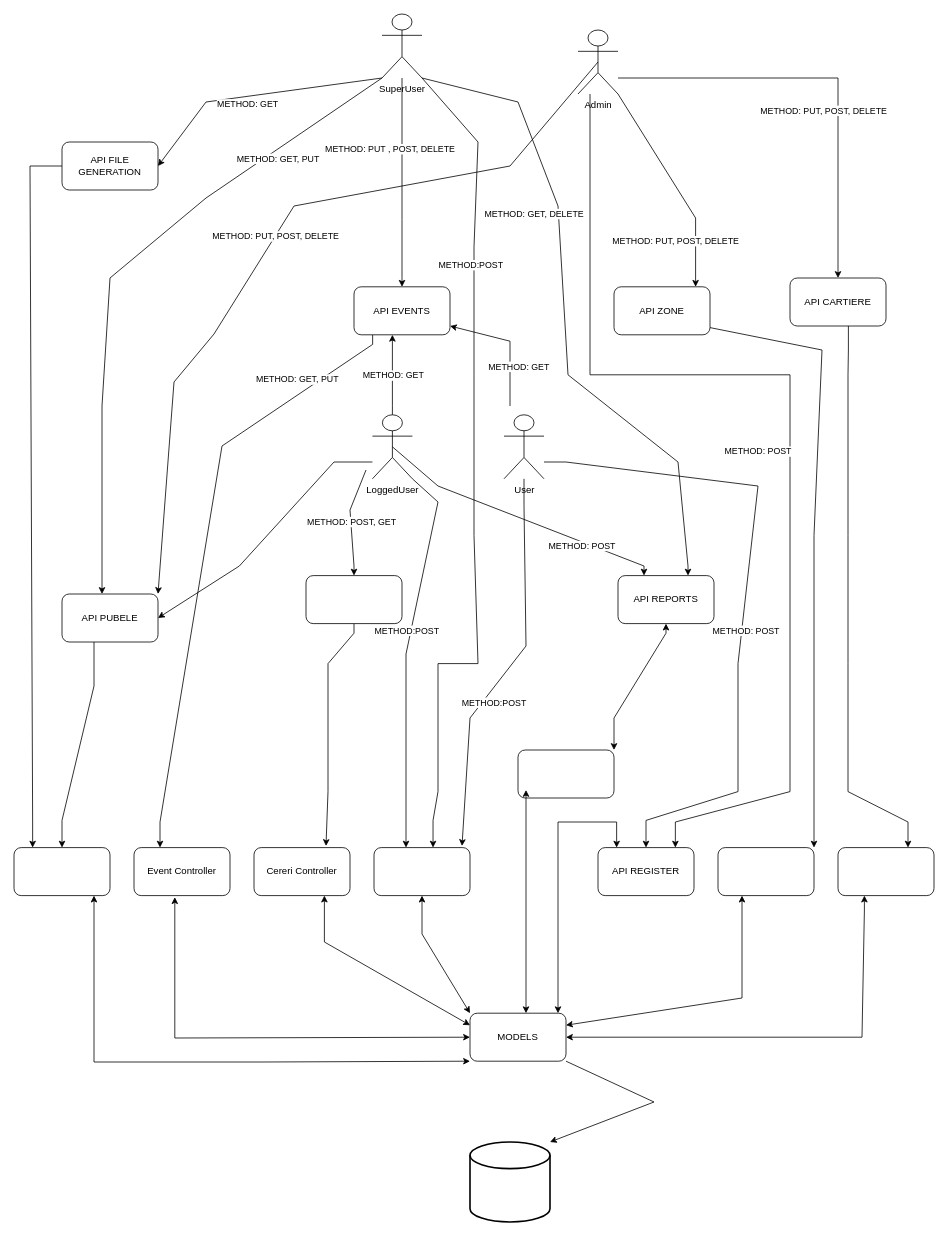
Image size: 948x1237. Some labels were removed from this diagram. The box of each missing label's shape, as (x1, y1, x2, y2) in pixels:
API AUTHENTIFICATE: (373, 847, 470, 896)
API CERERI: (305, 575, 402, 624)
Cartiere Controller: (837, 847, 934, 896)
Postgresql Database: (469, 1141, 550, 1222)
Pubele Controller: (13, 847, 110, 896)
Reports Controller: (517, 749, 614, 798)
Zone Controller: (717, 847, 814, 896)
